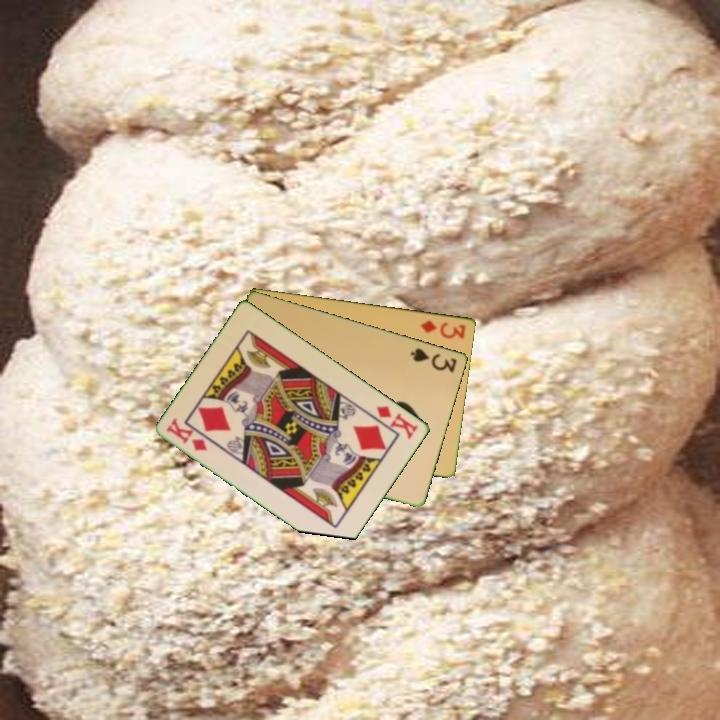3d: (417, 317, 469, 341)
3s: (407, 344, 460, 375)
Kd: (373, 402, 421, 442), (163, 415, 211, 454)
